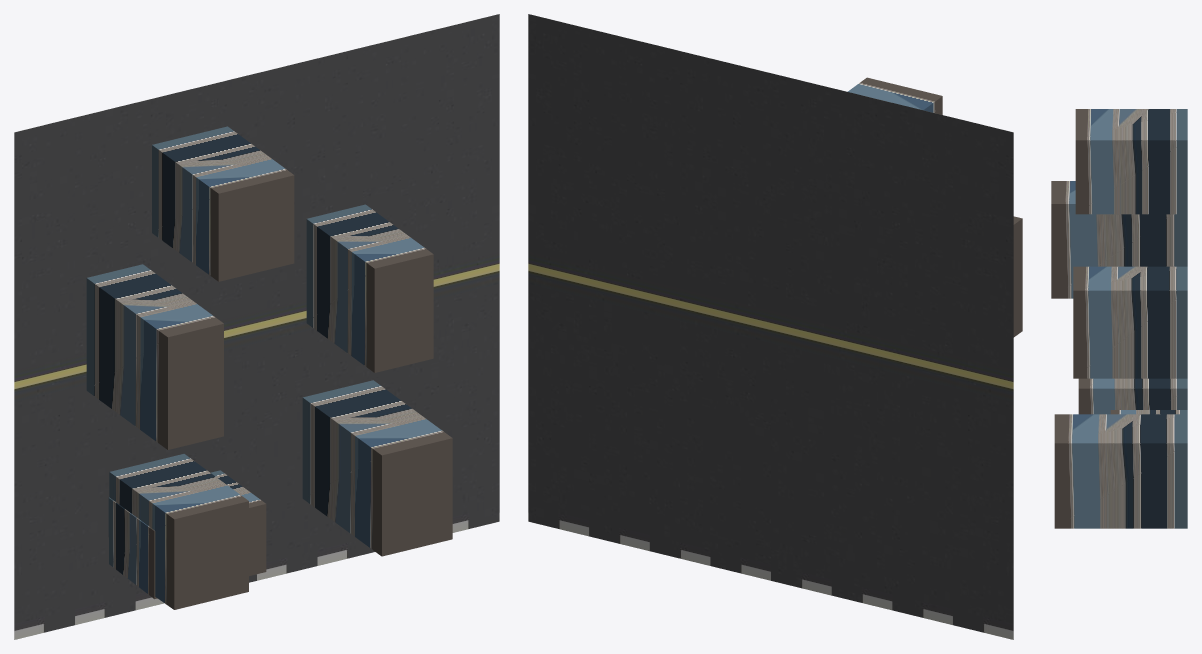
The picture shows the model from 3 angles, left to right: view 1: azimuth 30°, elevation 25°; view 2: azimuth 150°, elevation 25°; view 3: azimuth 270°, elevation 25°; orthographic projection. The views are drawn at different scales.
Bounding box in the file's own units: 119 × 119 × 34.57.
Materials: 2 (2 with a texture image).
